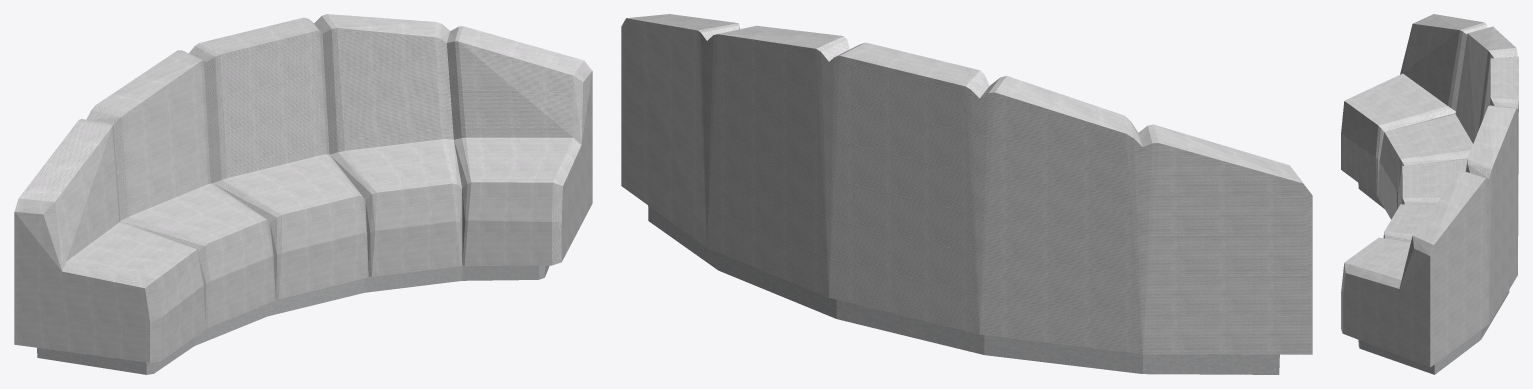
File: frn_all_mdrn_couch_s01_l0.fbx
3 views of the same model, side by side, from view 1: azimuth 30°, elevation 25°; view 2: azimuth 150°, elevation 25°; view 3: azimuth 270°, elevation 25° (orthographic). The views are drawn at different scales.
Visible parts, largest first — view 1: mesh_node; view 2: mesh_node; view 3: mesh_node.
Boxes of the visible parts, x1=… form: mesh_node: x1=14, y1=14, x2=592, y2=374; mesh_node: x1=621, y1=14, x2=1312, y2=374; mesh_node: x1=1341, y1=14, x2=1518, y2=374.
Size of the model in its own units: 4.32 by 1.62 by 1.37.
